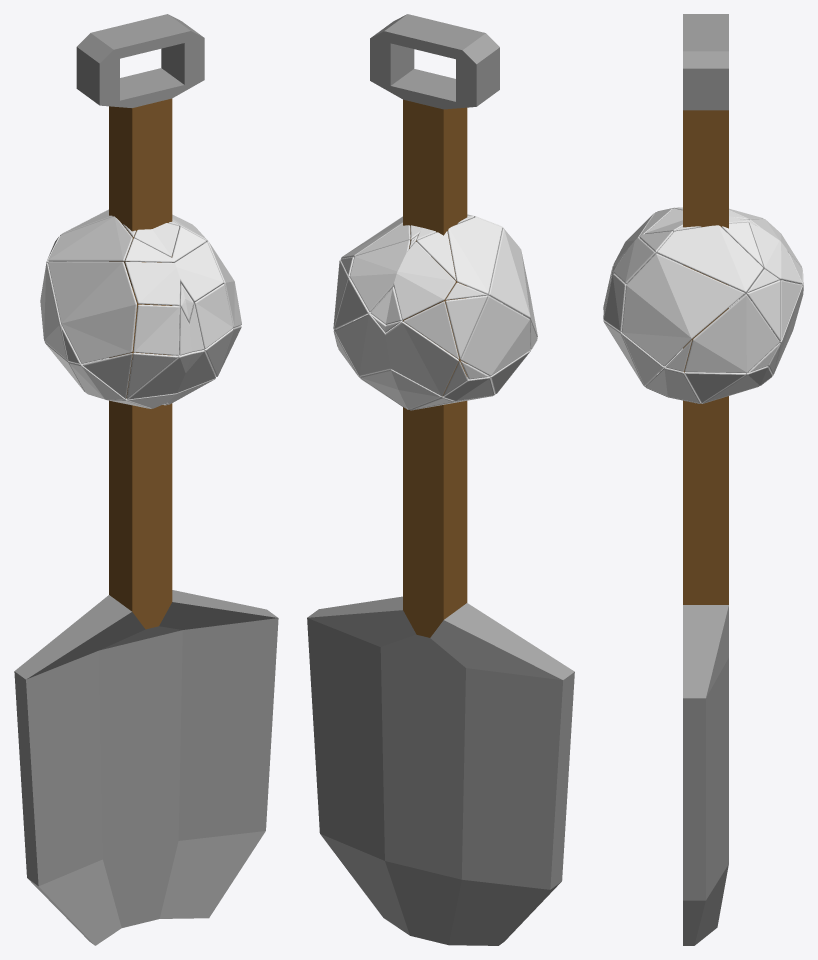
The model's file is shovel.fbx.
The picture shows the model from 3 angles, left to right: view 1: azimuth 30°, elevation 25°; view 2: azimuth 150°, elevation 25°; view 3: azimuth 270°, elevation 25°; orthographic projection. The views are drawn at different scales.
Visible parts, largest first — view 1: Cube.001, Cube; view 2: Cube.001, Cube; view 3: Cube.001, Cube.
Part boxes in pixels (bbox=[...]): Cube.001: bbox=[14, 14, 278, 945]; Cube: bbox=[40, 209, 241, 408]; Cube.001: bbox=[307, 14, 574, 945]; Cube: bbox=[333, 214, 537, 410]; Cube.001: bbox=[683, 14, 728, 945]; Cube: bbox=[603, 207, 803, 403].
Bounding box in the file's own units: 252 × 850 × 174.
